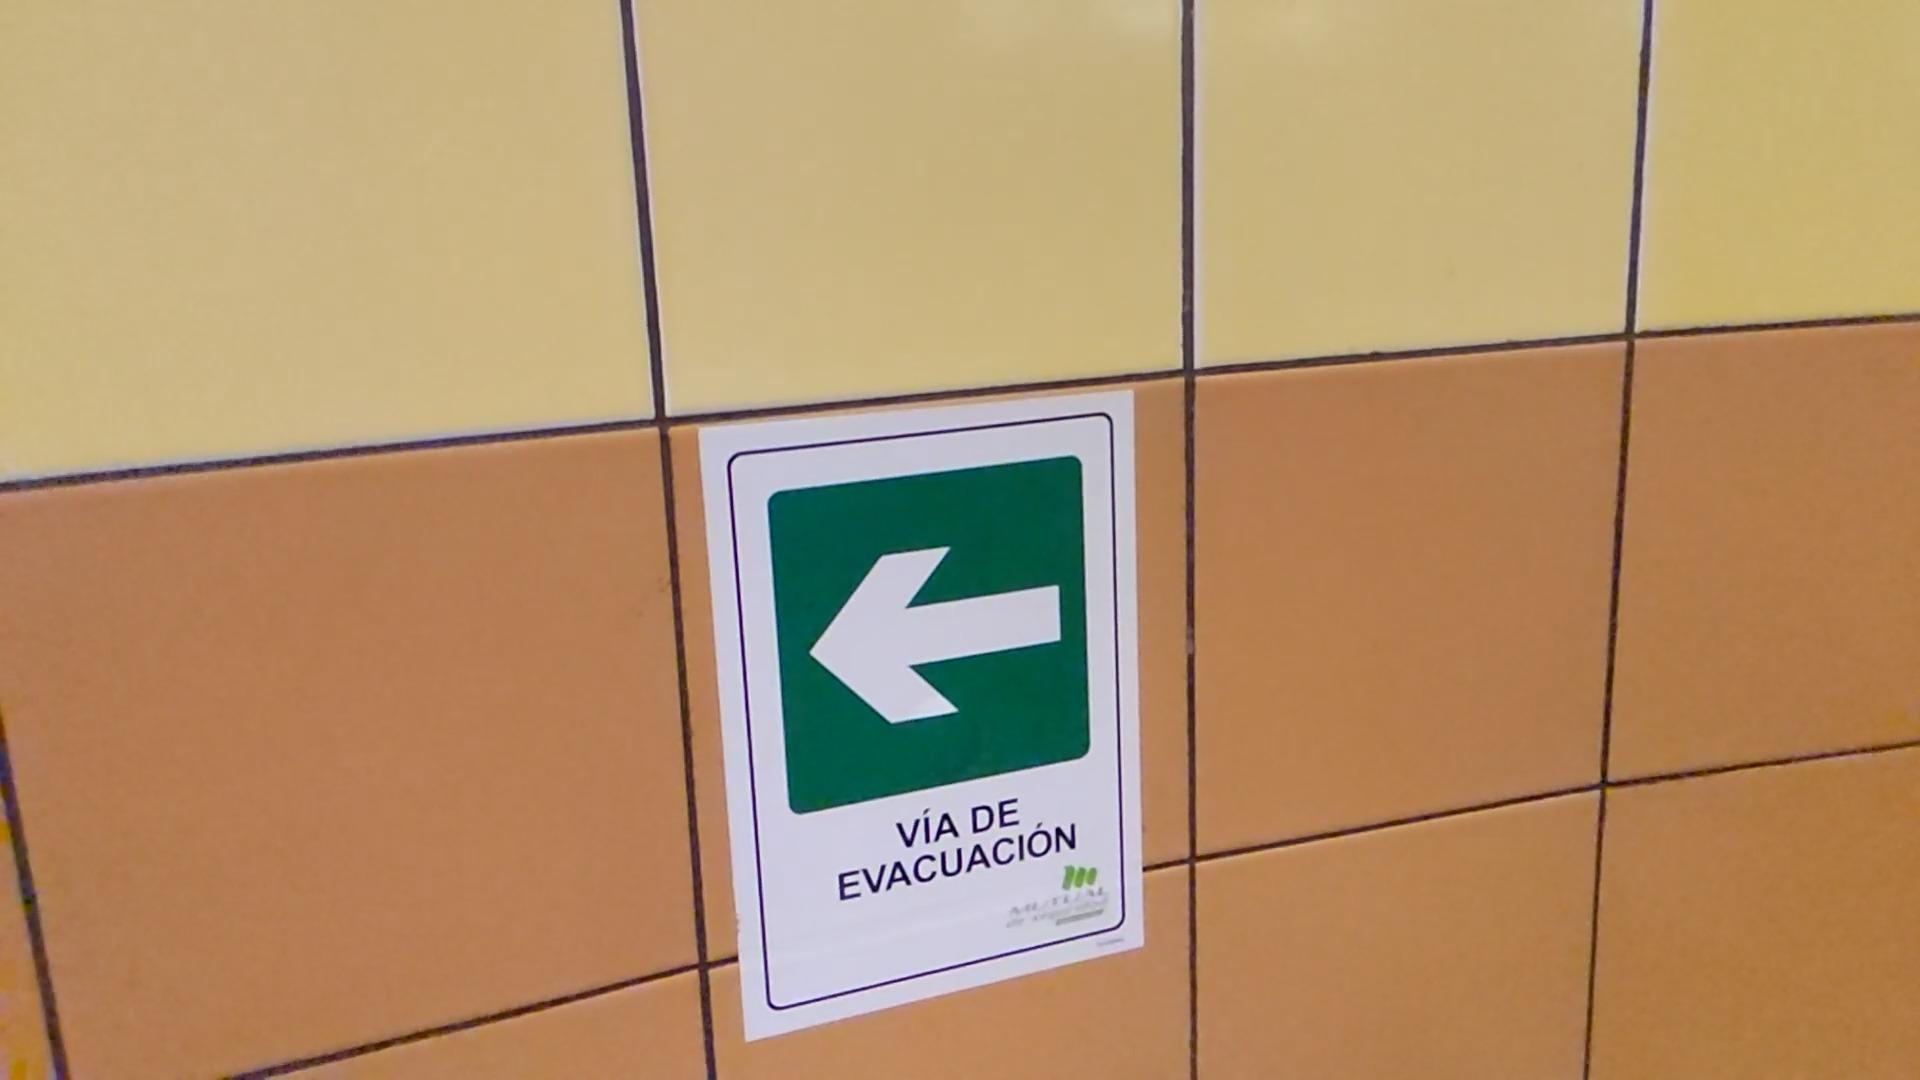emergency left arrow: (811, 543, 1071, 721)
